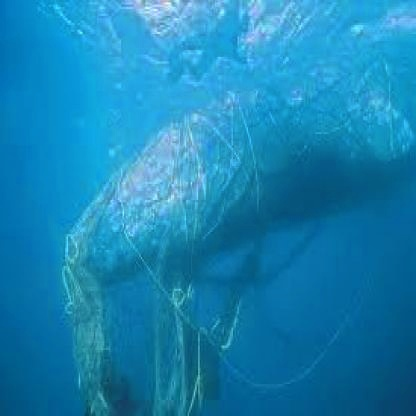net: (68, 66, 405, 293)
